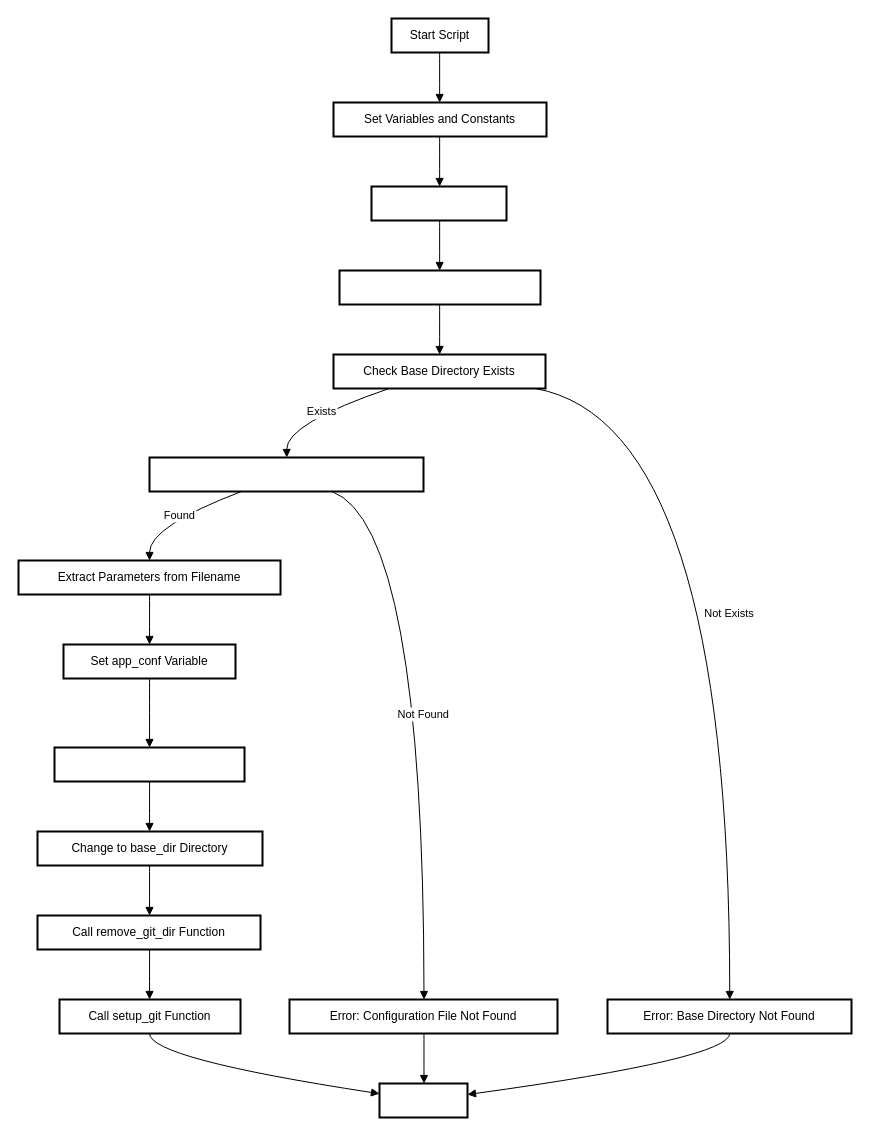
This 869x1135 diagram has some shape labels left out. The shapes that lost their labels are listed below. From the top down, each one's centre as x and y in pixels, then its label:
the point at 438,203: Define Functions
the point at 439,287: Trap to Handle Script Exit
the point at 286,474: Find Configuration File in was_temp
the point at 149,764: Call check_app Function
the point at 423,1100: End Script
